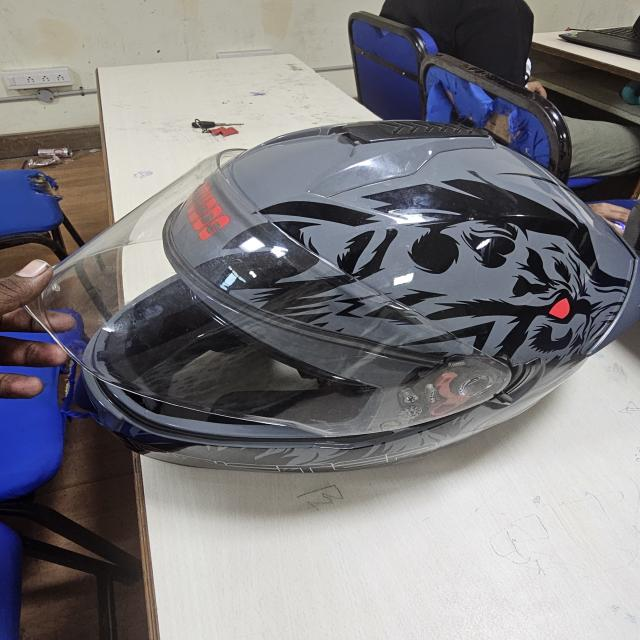helmet: (29, 119, 640, 473)
